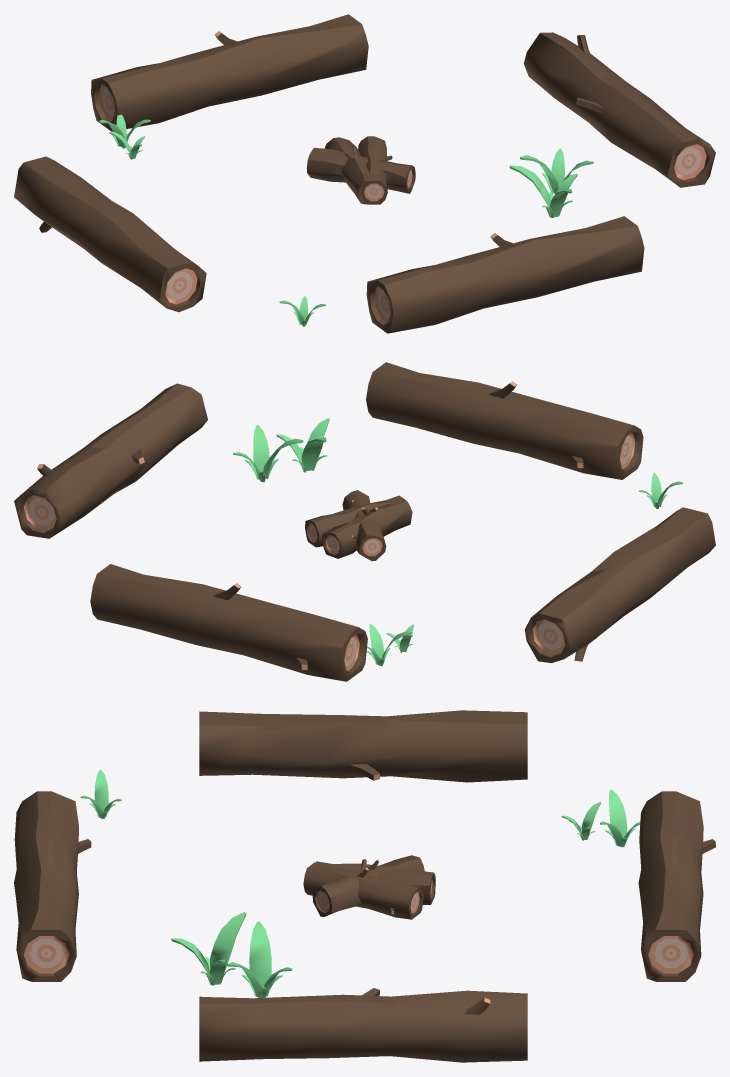
File: campfiresite.fbx
3 views of the same model, one above another, from view 1: azimuth 30°, elevation 25°; view 2: azimuth 150°, elevation 25°; view 3: azimuth 270°, elevation 25° (orthographic). The views are drawn at different scales.
Parts seen in each view (by area): view 1: Cylinder.006; view 2: Cylinder.006; view 3: Cylinder.006.
Part boxes in pixels (box(x1,y1,x2,y2)): Cylinder.006: box(14, 14, 715, 333); Cylinder.006: box(14, 362, 715, 681); Cylinder.006: box(14, 710, 715, 1062).
Size of the model in its own units: 5.2 by 0.6697 by 4.97.
